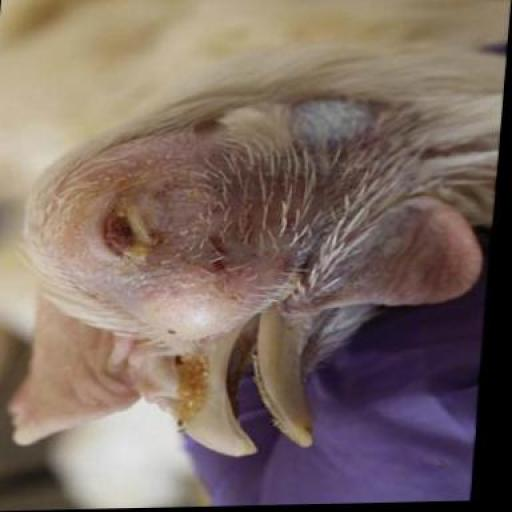disease: (155, 314, 225, 456), (93, 174, 170, 288)
